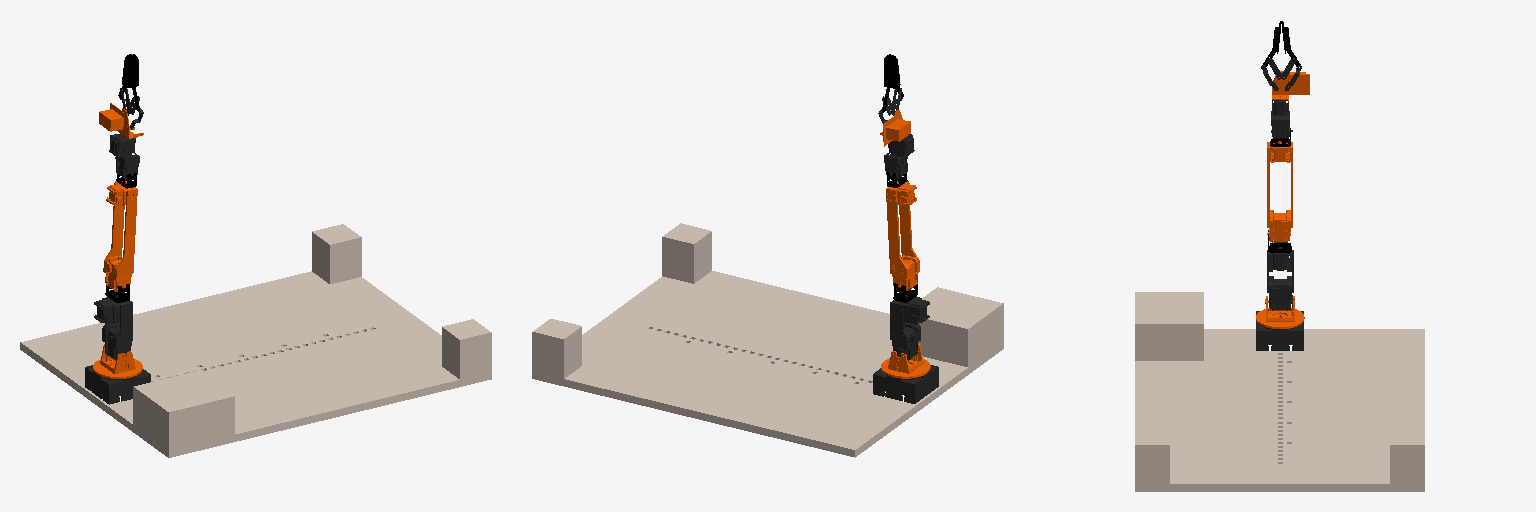
robot.urdf — clam:
<?xml version="1.0" ?>
<!-- =================================================================================== -->
<!-- |    This document was autogenerated by xacro from clam.xacro                     | -->
<!-- |    EDITING THIS FILE BY HAND IS NOT RECOMMENDED                                 | -->
<!-- =================================================================================== -->
<!-- Robot Description format of CLAM arm
[author] - [email redacted]
12/20/2012

Documentation:

URDF
http://www.ros.org/wiki/urdf/XML

Joint Safety Limits
http://www.ros.org/wiki/pr2_controller_manager/safety_limits

XARCO - Macro Language
http://www.ros.org/wiki/xacro

Gazebo Modeling
http://www.ros.org/wiki/simulator_gazebo/Tutorials/SpawningObjectInSimulation

-->
<robot name="clam" xmlns:controller="http://playerstage.sourceforge.net/gazebo/xmlschema/#controller" xmlns:interface="http://playerstage.sourceforge.net/gazebo/xmlschema/#interface" xmlns:sensor="http://playerstage.sourceforge.net/gazebo/xmlschema/#sensor">
  <!-- Include materials -->
  <material name="Black">
    <color rgba="0.0 0.0 0.0 1.0"/>
  </material>
  <material name="Blue">
    <color rgba="0.0 0.0 0.8 1.0"/>
  </material>
  <material name="Green">
    <color rgba="0.0 0.8 0.0 1.0"/>
  </material>
  <material name="Grey">
    <color rgba="0.2 0.2 0.2 1.0"/>
  </material>
  <material name="Orange">
    <color rgba="1.0 0.423529411765 0.0392156862745 1.0"/>
  </material>
  <material name="Brown">
    <color rgba="0.870588235294 0.811764705882 0.764705882353 1.0"/>
  </material>
  <material name="Red">
    <color rgba="0.8 0.0 0.0 1.0"/>
  </material>
  <material name="White">
    <color rgba="1.0 1.0 1.0 1.0"/>
  </material>
  <material name="GunMetalBrushedAluminum">
    <texture filename="package://clam_description/media/gun_metal_brushed_aluminum.jpg"/>
  </material>
  <!-- Constants -->
  <!-- Add a Gazebo plugin controller
       <gazebo>
       <controller:gazebo_ros_actuator_array
       name="actuator_array_controller"
       plugin="libgazebo_ros_actuator_array.so">
       <alwaysOn>true</alwaysOn>
       <updateRate>50.0</updateRate>
       <robotParam>robot_description</robotParam>
       <joint>
       <name>joint1</name>
       <home>0.0</home>
       <p>10.0</p>
       <i>0.0</i>
       <d>0.0</d>
       <iClamp>0.0</iClamp>
       </joint>
       <joint>
       <name>joint2</name>
       <home>2.094395102</home>
       <p>10.0</p>
       <i>0.0</i>
       <d>0.0</d>
       <iClamp>0.0</iClamp>
       </joint>
       <joint>
       <name>joint3</name>
       <home>1.483529864</home>
       <p>10.0</p>
       <i>0.0</i>
       <d>0.0</d>
       <iClamp>0.0</iClamp>
       </joint>
       <joint>
       <name>joint4</name>
       <home>0.0</home>
       <p>10.0</p>
       <i>0.0</i>
       <d>0.0</d>
       <iClamp>0.0</iClamp>
       </joint>
       </controller:gazebo_ros_actuator_array>
       </gazebo>
  -->
  <!-- TABLETOP LINK -->
  <joint name="tabletop_joint" type="fixed">
    <origin rpy="0 0 0" xyz="0 0 0"/>
    <parent link="base_link"/>
    <child link="tabletop_link"/>
  </joint>
  <link name="tabletop_link">
    <inertial>
      <origin xyz=" 0 0 -0.017"/>
      <mass value="100.0"/>
      <inertia ixx="1.0" ixy="0.0" ixz="0.0" iyy="100.0" iyz="0.0" izz="1.0"/>
    </inertial>
    <visual>
      <origin rpy="1.570795 0 1.570795" xyz=" 0 0 -0.017"/>
      <geometry>
        <mesh filename="package://clam_description/stl/tabletop.STL" scale="1 1 1"/>
      </geometry>
      <material name="Brown"/>
    </visual>
    <collision>
      <origin rpy="1.570795 0 1.570795" xyz=" 0 0 -0.017"/>
      <geometry>
        <mesh filename="package://clam_description/stl/tabletop.STL" scale="1 1 1"/>
      </geometry>
    </collision>
  </link>
  <gazebo reference="tabletop_link">
    <material>Gazebo/WoodFloor</material>
    <turnGravityOff>false</turnGravityOff>
  </gazebo>
  <!-- BASE LINK -->
  <link name="base_link">
    <!--inertial>
      <origin xyz="0 0 0"/>
      <mass value="1.0"/>
      <inertia ixx="1.0" ixy="0.0" ixz="0.0" iyy="100.0" iyz="0.0" izz="1.0"/>
    </inertial-->
    <visual>
      <origin rpy="1.570795 0 0" xyz="0 0 0"/>
      <!-- rotate PI/2 -->
      <geometry>
        <mesh filename="package://clam_description/stl/base_link.STL" scale="0.001 0.001 0.001"/>
      </geometry>
      <material name="Grey"/>
    </visual>
    <collision>
      <origin rpy="1.570795 0 0" xyz="0 0 0"/>
      <!-- rotate PI/2 -->
      <geometry>
        <mesh filename="package://clam_description/stl/base_link_simple.STL" scale="0.001 0.001 0.001"/>
      </geometry>
    </collision>
  </link>
  <gazebo reference="base_link">
    <material>Gazebo/Blue</material>
    <turnGravityOff>false</turnGravityOff>
  </gazebo>
  <joint name="shoulder_pan_joint" type="revolute">
    <parent link="base_link"/>
    <child link="shoulder_pan_link"/>
    <origin rpy="0 1.570795 0.0" xyz="0 0 0.05"/>
    <axis xyz="-1 0 0"/>
    <limit effort="300" lower="-2.61799387799" upper="1.98394848567" velocity="1"/>
    <dynamics damping="50" friction="1"/>
  </joint>
  <transmission name="shoulder_pan_controller" type="pr2_mechanism_model/SimpleTransmission">
    <actuator name="shoulder_pan_actuator"/>
    <joint name="shoulder_pan_joint"/>
    <mechanicalReduction>1</mechanicalReduction>
    <motorTorqueConstant>1</motorTorqueConstant>
  </transmission>
  <!-- SHOULDER PAN LINK -->
  <link name="shoulder_pan_link">
    <inertial>
      <origin xyz="0 0 0"/>
      <mass value="1.0"/>
      <inertia ixx="1.0" ixy="0.0" ixz="0.0" iyy="100.0" iyz="0.0" izz="1.0"/>
    </inertial>
    <visual>
      <origin rpy="0 0 1.570795" xyz="0 0 0"/>
      <geometry>
        <mesh filename="package://clam_description/stl/shoulder_pan_link.STL" scale="0.001 0.001 0.001"/>
      </geometry>
      <material name="Orange"/>
    </visual>
    <collision>
      <origin rpy="0 0 1.570795" xyz="0 0 0"/>
      <geometry>
        <mesh filename="package://clam_description/stl/shoulder_pan_link_simple.STL" scale="0.001 0.001 0.001"/>
      </geometry>
    </collision>
  </link>
  <gazebo reference="shoulder_pan_link">
    <material>Gazebo/Blue</material>
    <turnGravityOff>false</turnGravityOff>
  </gazebo>
  <joint name="shoulder_pitch_joint" type="revolute">
    <parent link="shoulder_pan_link"/>
    <child link="shoulder_pitch_link"/>
    <origin rpy="-1.570795 0 1.570795" xyz="-0.041 0.0021 0.0"/>
    <axis xyz="1 0 0"/>
    <limit effort="300" lower="-1.19962513147" upper="1.89994105047" velocity="1"/>
    <dynamics damping="50" friction="1"/>
  </joint>
  <!-- SHOULDER PITCH LINK -->
  <link name="shoulder_pitch_link">
    <inertial>
      <origin xyz="-0.002 0 -0.000"/>
      <mass value="1.0"/>
      <inertia ixx="1.0" ixy="0.0" ixz="0.0" iyy="100.0" iyz="0.0" izz="1.0"/>
    </inertial>
    <visual>
      <origin rpy="1.570795 3.14159 1.570795" xyz="-0.002 0 -0.000"/>
      <geometry>
        <mesh filename="package://clam_description/stl/shoulder_pitch_link.STL" scale="0.001 0.001 0.001"/>
      </geometry>
      <material name="Grey"/>
    </visual>
    <collision>
      <origin rpy="1.570795 3.14159 1.570795" xyz="-0.002 0 -0.000"/>
      <geometry>
        <mesh filename="package://clam_description/stl/shoulder_pitch_link_simple.STL" scale="0.001 0.001 0.001"/>
      </geometry>
    </collision>
  </link>
  <gazebo reference="shoulder_pitch_link">
    <material>Gazebo/Blue</material>
    <turnGravityOff>false</turnGravityOff>
  </gazebo>
  <joint name="elbow_roll_joint" type="revolute">
    <parent link="shoulder_pitch_link"/>
    <child link="elbow_roll_link"/>
    <origin rpy="3.14159 1.570795 0" xyz="-0.002 0 0.1206"/>
    <axis xyz="-1 0 0"/>
    <limit effort="300" lower="-2.61799387799" upper="0.705631162427" velocity="1"/>
    <dynamics damping="50" friction="1"/>
  </joint>
  <!-- ELBOW ROLL LINK -->
  <link name="elbow_roll_link">
    <inertial>
      <origin xyz="-0.035 0.0 0.0"/>
      <mass value="1.0"/>
      <inertia ixx="1.0" ixy="0.0" ixz="0.0" iyy="100.0" iyz="0.0" izz="1.0"/>
    </inertial>
    <visual>
      <origin rpy="3.14159 1.570795 1.570795" xyz="-0.035 0.0 0.0"/>
      <geometry>
        <mesh filename="package://clam_description/stl/elbow_roll_link.STL" scale="0.001 0.001 0.001"/>
      </geometry>
      <material name="Black"/>
    </visual>
    <collision>
      <origin rpy="3.14159 1.570795 1.570795" xyz="-0.035 0.0 0.0"/>
      <geometry>
        <mesh filename="package://clam_description/stl/elbow_roll_link_simple.STL" scale="0.001 0.001 0.001"/>
      </geometry>
    </collision>
  </link>
  <gazebo reference="elbow_roll_link">
    <material>Gazebo/Blue</material>
    <turnGravityOff>false</turnGravityOff>
  </gazebo>
  <joint name="elbow_pitch_joint" type="revolute">
    <parent link="elbow_roll_link"/>
    <child link="elbow_pitch_link"/>
    <origin rpy="0.055 1.570795 0" xyz="-0.035 0 0.0"/>
    <axis xyz="1 0 0"/>
    <limit effort="300" lower="-1.5953400194" upper="1.93281579274" velocity="1"/>
    <dynamics damping="50" friction="1"/>
  </joint>
  <!-- ELBOW PITCH LINK -->
  <link name="elbow_pitch_link">
    <inertial>
      <origin xyz="0.0 0 0"/>
      <mass value="1.0"/>
      <inertia ixx="1.0" ixy="0.0" ixz="0.0" iyy="100.0" iyz="0.0" izz="1.0"/>
    </inertial>
    <visual>
      <origin rpy="1.570795 0 4.712385" xyz="0.0 0 0"/>
      <geometry>
        <mesh filename="package://clam_description/stl/elbow_pitch_link.STL" scale="0.001 0.001 0.001"/>
      </geometry>
      <material name="Orange"/>
    </visual>
    <collision>
      <origin rpy="1.570795 0 4.712385" xyz="0.0 0 0"/>
      <geometry>
        <mesh filename="package://clam_description/stl/elbow_pitch_link_simple.STL" scale="0.001 0.001 0.001"/>
      </geometry>
    </collision>
  </link>
  <gazebo reference="elbow_pitch_link">
    <material>Gazebo/Blue</material>
    <turnGravityOff>false</turnGravityOff>
  </gazebo>
  <joint name="wrist_roll_joint" type="revolute">
    <parent link="elbow_pitch_link"/>
    <child link="wrist_roll_link"/>
    <origin rpy="0 1.570795 3.14159" xyz="0.0 0.0081 -.248"/>
    <axis xyz="1 0 0"/>
    <limit effort="300" lower="-2.61799387799" upper="2.6128806087" velocity="1"/>
    <dynamics damping="50" friction="1"/>
  </joint>
  <!-- WRIST ROLL LINK -->
  <link name="wrist_roll_link">
    <inertial>
      <origin xyz="0 0 0"/>
      <mass value="1.0"/>
      <inertia ixx="1.0" ixy="0.0" ixz="0.0" iyy="100.0" iyz="0.0" izz="1.0"/>
    </inertial>
    <visual>
      <origin rpy="0 1.570795 1.570795" xyz="0 0 0"/>
      <geometry>
        <mesh filename="package://clam_description/stl/wrist_roll_link.STL" scale="0.001 0.001 0.001"/>
      </geometry>
      <material name="Black"/>
    </visual>
    <collision>
      <origin rpy="0 1.570795 1.570795" xyz="0 0 0"/>
      <geometry>
        <mesh filename="package://clam_description/stl/wrist_roll_link_simple.STL" scale="0.001 0.001 0.001"/>
      </geometry>
    </collision>
  </link>
  <gazebo reference="wrist_roll_link">
    <material>Gazebo/Blue</material>
    <turnGravityOff>false</turnGravityOff>
  </gazebo>
  <joint name="wrist_pitch_joint" type="revolute">
    <parent link="wrist_roll_link"/>
    <child link="wrist_pitch_link"/>
    <origin rpy="0 1.570795 0" xyz="0.0 0.0 0.0001"/>
    <axis xyz="1 0 0"/>
    <limit effort="300" lower="-1.5953400194" upper="1.98394848567" velocity="1"/>
    <dynamics damping="50" friction="1"/>
  </joint>
  <!-- WRIST PITCH LINK -->
  <link name="wrist_pitch_link">
    <inertial>
      <origin xyz="0 0 0"/>
      <mass value="1.0"/>
      <inertia ixx="1.0" ixy="0.0" ixz="0.0" iyy="100.0" iyz="0.0" izz="1.0"/>
    </inertial>
    <visual>
      <origin rpy="3.14159 -1.570795 0" xyz="0 0 0"/>
      <geometry>
        <mesh filename="package://clam_description/stl/wrist_pitch_link.STL" scale="0.001 0.001 0.001"/>
      </geometry>
      <material name="Grey"/>
    </visual>
    <collision>
      <origin rpy="3.14159 -1.570795 0" xyz="0 0 0"/>
      <geometry>
        <mesh filename="package://clam_description/stl/wrist_pitch_link_simple.STL" scale="0.001 0.001 0.001"/>
      </geometry>
    </collision>
  </link>
  <gazebo reference="wrist_pitch_link">
    <material>Gazebo/Blue</material>
    <turnGravityOff>false</turnGravityOff>
  </gazebo>
  <joint name="gripper_roll_joint" type="revolute">
    <parent link="wrist_pitch_link"/>
    <child link="gripper_roll_link"/>
    <origin rpy="4.712385 -1.570795 0" xyz="0 0 0.080"/>
    <axis xyz="1 0 0"/>
    <limit effort="300" lower="-2.61799387799" upper="2.6128806087" velocity="1"/>
    <dynamics damping="50" friction="1"/>
  </joint>
  <!-- GRIPPER ROLL LINK -->
  <link name="gripper_roll_link">
    <inertial>
      <origin xyz="0 0 0"/>
      <mass value="1.0"/>
      <inertia ixx="1.0" ixy="0.0" ixz="0.0" iyy="100.0" iyz="0.0" izz="1.0"/>
    </inertial>
    <visual>
      <origin rpy="0 0 0" xyz="0 0 0"/>
      <geometry>
        <mesh filename="package://clam_description/stl/gripper_grip_link.STL" scale="1 1 1"/>
      </geometry>
      <material name="Orange"/>
    </visual>
  </link>
  <gazebo reference="gripper_roll_link">
    <material>Gazebo/Blue</material>
    <turnGravityOff>false</turnGravityOff>
  </gazebo>
  <joint name="l_gripper_aft_joint" type="revolute">
    <parent link="gripper_roll_link"/>
    <child link="l_gripper_aft_link"/>
    <origin rpy="3.2672536 1.570795 0.603534345556" xyz="0.026 .017 0"/>
    <axis xyz="1 0 0"/>
    <limit effort="300" lower="-0.925023722222" upper="0.0" velocity="1"/>
    <dynamics damping="50" friction="1"/>
  </joint>
  <!-- LEFT GRIPPER AFT LINK -->
  <link name="l_gripper_aft_link">
    <inertial>
      <origin xyz="0 0 0"/>
      <mass value="1.0"/>
      <inertia ixx="1.0" ixy="0.0" ixz="0.0" iyy="100.0" iyz="0.0" izz="1.0"/>
    </inertial>
    <visual>
      <origin rpy="0 0 3.14159" xyz="0 0 0"/>
      <geometry>
        <mesh filename="package://clam_description/stl/l_gripper_aft_link.STL" scale="1 1 1"/>
      </geometry>
      <material name="Grey"/>
    </visual>
  </link>
  <gazebo reference="l_gripper_aft_link">
    <material>Gazebo/Blue</material>
    <turnGravityOff>false</turnGravityOff>
  </gazebo>
  <joint name="r_gripper_aft_joint" type="revolute">
    <parent link="gripper_roll_link"/>
    <child link="r_gripper_aft_link"/>
    <origin rpy="4.22543855 1.570795 0.603534345556" xyz="0.026 -0.011  0"/>
    <axis xyz="1 0 0"/>
    <limit effort="300" lower="-3.14" upper="3.14" velocity="1"/>
    <mimic joint="l_gripper_aft_joint" multiplier="-1.0" offset="0.0"/>
    <dynamics damping="50" friction="1"/>
  </joint>
  <!-- RIGHT GRIPPER AFT LINK -->
  <link name="r_gripper_aft_link">
    <inertial>
      <origin xyz="0 0 0"/>
      <mass value="1.0"/>
      <inertia ixx="1.0" ixy="0.0" ixz="0.0" iyy="100.0" iyz="0.0" izz="1.0"/>
    </inertial>
    <visual>
      <origin rpy="0 0 3.14159" xyz="0 0 0"/>
      <geometry>
        <mesh filename="package://clam_description/stl/r_gripper_aft_link.STL" scale="1 1 1"/>
      </geometry>
      <material name="Grey"/>
    </visual>
  </link>
  <gazebo reference="r_gripper_aft_link">
    <material>Gazebo/Blue</material>
    <turnGravityOff>false</turnGravityOff>
  </gazebo>
  <joint name="l_gripper_fwd_joint" type="revolute">
    <parent link="gripper_roll_link"/>
    <child link="l_gripper_fwd_link"/>
    <origin rpy="3.2672536 1.570795 3.74512434556" xyz="0.05 0.008 0.007"/>
    <axis xyz="1 0 0"/>
    <limit effort="300" lower="0" upper="1.57" velocity="1"/>
    <mimic joint="l_gripper_aft_joint" multiplier="1.0" offset="0"/>
    <dynamics damping="50" friction="1"/>
  </joint>
  <!-- LEFT GRIPPER FWD LINK -->
  <link name="l_gripper_fwd_link">
    <inertial>
      <origin xyz="0 0 0"/>
      <mass value="1.0"/>
      <inertia ixx="1.0" ixy="0.0" ixz="0.0" iyy="100.0" iyz="0.0" izz="1.0"/>
    </inertial>
    <visual>
      <origin rpy="0 0 3.14159" xyz="0 0 0"/>
      <geometry>
        <mesh filename="package://clam_description/stl/l_gripper_fwd_link.STL" scale="1 1 1"/>
      </geometry>
      <material name="Grey"/>
    </visual>
  </link>
  <gazebo reference="l_gripper_fwd_link">
    <material>Gazebo/Blue</material>
    <turnGravityOff>false</turnGravityOff>
  </gazebo>
  <joint name="r_gripper_fwd_joint" type="revolute">
    <parent link="gripper_roll_link"/>
    <child link="r_gripper_fwd_link"/>
    <origin rpy="3.0159264 1.570795 2.53805565444" xyz="0.05 -0.0014 0.007"/>
    <axis xyz="1 0 0"/>
    <limit effort="300" lower="-1.57" upper="0" velocity="1"/>
    <mimic joint="l_gripper_aft_joint" multiplier="-1.0" offset="0"/>
    <dynamics damping="50" friction="1"/>
  </joint>
  <!-- RIGHT GRIPPER FWD LINK -->
  <link name="r_gripper_fwd_link">
    <inertial>
      <origin xyz="0 0 0"/>
      <mass value="1.0"/>
      <inertia ixx="1.0" ixy="0.0" ixz="0.0" iyy="100.0" iyz="0.0" izz="1.0"/>
    </inertial>
    <visual>
      <origin rpy="0 0 3.14159" xyz="0 0 0"/>
      <geometry>
        <mesh filename="package://clam_description/stl/r_gripper_fwd_link.STL" scale="1 1 1"/>
      </geometry>
      <material name="Grey"/>
    </visual>
  </link>
  <gazebo reference="r_gripper_fwd_link">
    <material>Gazebo/Blue</material>
    <turnGravityOff>false</turnGravityOff>
  </gazebo>
  <joint name="l_gripper_aft_pincher_joint" type="continuous">
    <parent link="l_gripper_aft_link"/>
    <child link="l_gripper_pincher_link"/>
    <origin rpy="2.55812692389 0 0" xyz="-0.0032 0 -0.0508"/>
    <axis xyz="1 0 0"/>
    <limit effort="300" lower="-1.57" upper="1.57" velocity="1"/>
    <mimic joint="l_gripper_aft_joint" multiplier="-1.0" offset="0"/>
    <dynamics damping="50" friction="1"/>
  </joint>
  <!-- LEFT GRIPPER PINCHER -->
  <link name="l_gripper_pincher_link">
    <inertial>
      <origin xyz="0 0 0"/>
      <mass value="1.0"/>
      <inertia ixx="1.0" ixy="0.0" ixz="0.0" iyy="100.0" iyz="0.0" izz="1.0"/>
    </inertial>
    <visual>
      <origin rpy="0 0 3.14159" xyz="0 0 0"/>
      <geometry>
        <mesh filename="package://clam_description/stl/l_gripper_pincher.STL" scale="1 1 1"/>
      </geometry>
      <material name="Black"/>
    </visual>
  </link>
  <gazebo reference="l_gripper_pincher_link">
    <material>Gazebo/Blue</material>
    <turnGravityOff>false</turnGravityOff>
  </gazebo>
  <joint name="r_gripper_aft_pincher_joint" type="revolute">
    <parent link="r_gripper_aft_link"/>
    <child link="r_gripper_pincher_link"/>
    <origin rpy="-0.583463076111 3.14159 0" xyz="0 0 -0.0508"/>
    <axis xyz="1 0 0"/>
    <limit effort="300" lower="0" upper="1.57" velocity="1"/>
    <mimic joint="l_gripper_aft_joint" multiplier="-1.0" offset="0"/>
    <dynamics damping="50" friction="1"/>
  </joint>
  <!-- RIGHT GRIPPER PINCHER -->
  <link name="r_gripper_pincher_link">
    <inertial>
      <origin xyz="0 0 0"/>
      <mass value="1.0"/>
      <inertia ixx="1.0" ixy="0.0" ixz="0.0" iyy="100.0" iyz="0.0" izz="1.0"/>
    </inertial>
    <visual>
      <origin rpy="0 0 3.14159" xyz="0 0 0"/>
      <geometry>
        <mesh filename="package://clam_description/stl/r_gripper_pincher.STL" scale="1 1 1"/>
      </geometry>
      <material name="Black"/>
    </visual>
  </link>
  <gazebo reference="r_gripper_pincher_link">
    <material>Gazebo/Blue</material>
    <turnGravityOff>false</turnGravityOff>
  </gazebo>
  <!-- FAKE CAMERA CALIBRATION POINT AT GRIPPER TIP -->
  <joint name="gripper_fake_tip_joint" type="fixed">
    <origin rpy="0 0 0" xyz="0.1795 0.002 0"/>
    <parent link="gripper_roll_link"/>
    <child link="gripper_fake_tip_link"/>
  </joint>
  <link name="gripper_fake_tip_link">
    <inertial>
      <origin xyz="0 0 0"/>
      <mass value="0.01"/>
      <inertia ixx="1.0" ixy="0.0" ixz="0.0" iyy="100.0" iyz="0.0" izz="1.0"/>
    </inertial>
    <visual>
      <origin rpy="0 0 0" xyz="0 0 0"/>
      <geometry>
        <sphere radius=".001"/>
      </geometry>
    </visual>
  </link>
  <gazebo reference="gripper_fake_tip_link">
    <material>Gazebo/Blue</material>
    <turnGravityOff>false</turnGravityOff>
  </gazebo>
  <!-- KINECT LINK - Not Needed even for calibration
       <joint name="base_kinect_joint" type="fixed">
       <origin xyz="0.769541 -0.0539292 0.836631" rpy="0 0 0" />
       <parent link="base_link"/>
       <child link="camera_link"/>
       </joint>

<link name="camera_link">
<visual>
<origin rpy="0 0 0" xyz=" 0 0 0 "/>
<geometry>
<sphere radius=".005"/>
</geometry>
</visual>
</link>
  -->
</robot>

--- What the picture shows (computed from the rendered views, not written in the file) ---
Views: 3 orthographic renders of the robot side by side, from view 1: azimuth 30°, elevation 25°; view 2: azimuth 150°, elevation 25°; view 3: azimuth 270°, elevation 25°.
Model clam with 16 links and 15 joints (12 revolute, 1 continuous, 2 fixed), rooted at base_link, posed all joints at 0.
Visible links, largest first — view 1: tabletop_link, elbow_pitch_link, shoulder_pitch_link, base_link, shoulder_pan_link, wrist_pitch_link, gripper_roll_link; view 2: tabletop_link, elbow_pitch_link, shoulder_pitch_link, base_link, shoulder_pan_link, wrist_pitch_link, gripper_roll_link; view 3: tabletop_link, elbow_pitch_link, shoulder_pitch_link, base_link, shoulder_pan_link, gripper_roll_link, wrist_pitch_link.
Link boxes in pixels (x1,y1,x2,y2): tabletop_link: (20,224,491,457); elbow_pitch_link: (103,181,137,291); shoulder_pitch_link: (94,294,132,360); base_link: (85,365,150,404); shoulder_pan_link: (93,344,142,378); wrist_pitch_link: (109,133,139,179); gripper_roll_link: (99,103,143,138); tabletop_link: (532,223,1003,457); elbow_pitch_link: (886,181,919,290); shoulder_pitch_link: (890,295,929,360); base_link: (873,365,938,403); shoulder_pan_link: (881,344,930,378); wrist_pitch_link: (884,134,914,178); gripper_roll_link: (880,110,910,146); tabletop_link: (1135,292,1424,491); elbow_pitch_link: (1267,138,1292,242); shoulder_pitch_link: (1267,242,1293,310); base_link: (1256,311,1303,350); shoulder_pan_link: (1256,296,1304,328); gripper_roll_link: (1272,71,1309,101); wrist_pitch_link: (1271,100,1292,138).
Bounding box of the posed robot: 0.766 × 0.609 × 0.7709 m (x, y, z).
Meshes: 15 distinct files referenced, 15 mesh visuals loaded (15 binary STL).
